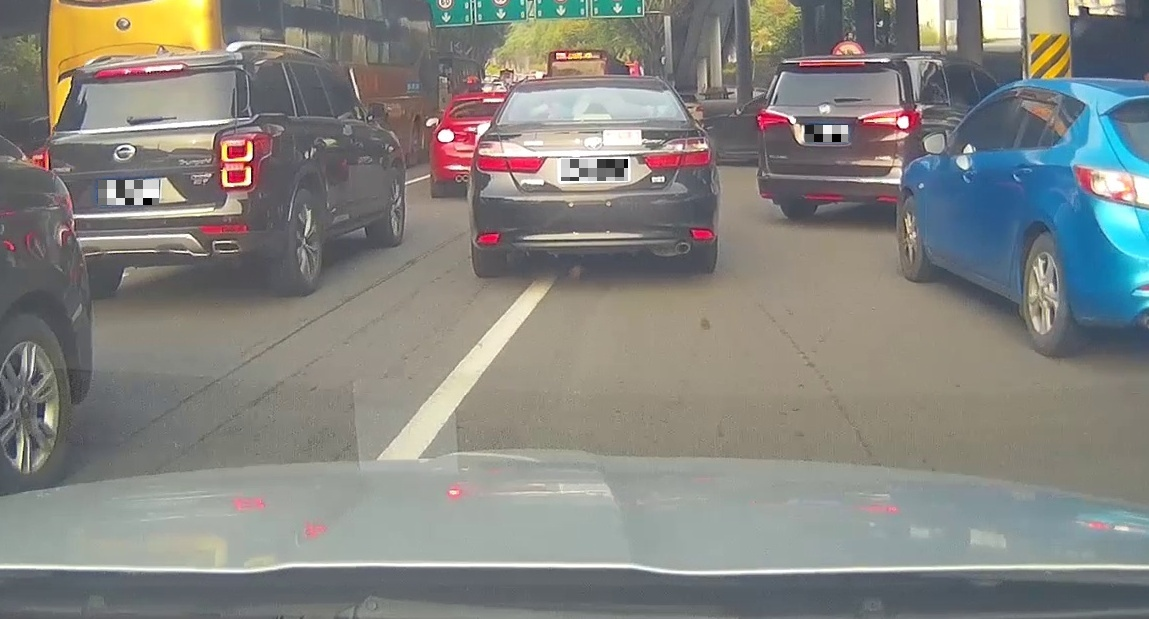L_light: (474, 139, 547, 173), (755, 108, 795, 129), (31, 146, 52, 185)
R_light: (218, 130, 273, 192), (641, 135, 710, 168), (857, 108, 918, 131)
T_light: (94, 63, 183, 78), (799, 59, 865, 68), (573, 113, 611, 121)
day-brake: (30, 53, 278, 299)
day-no: (470, 76, 719, 280)
day-right: (753, 52, 923, 221)
plate_1: (98, 180, 159, 205)
plate_2: (561, 159, 628, 181)
plate_3: (805, 125, 848, 142)
